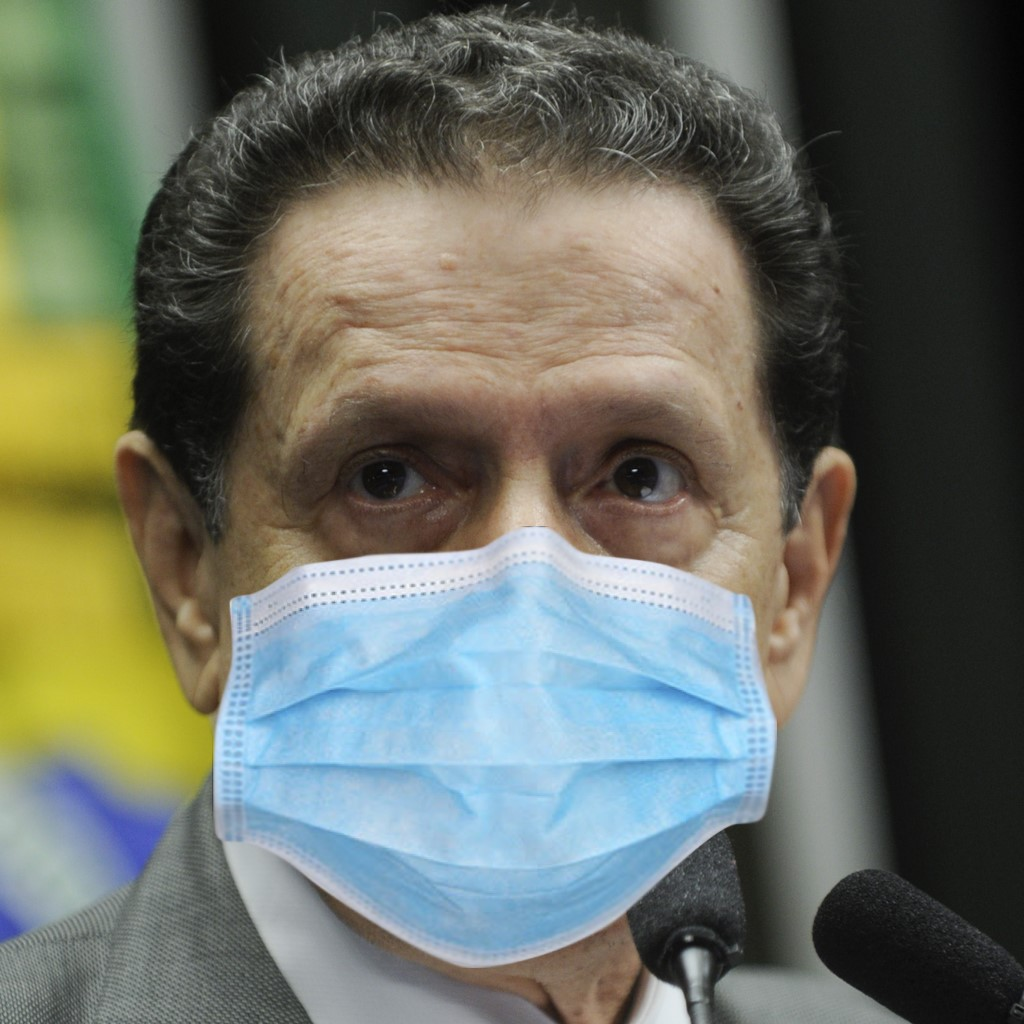con_mascara: (173, 95, 806, 964)
